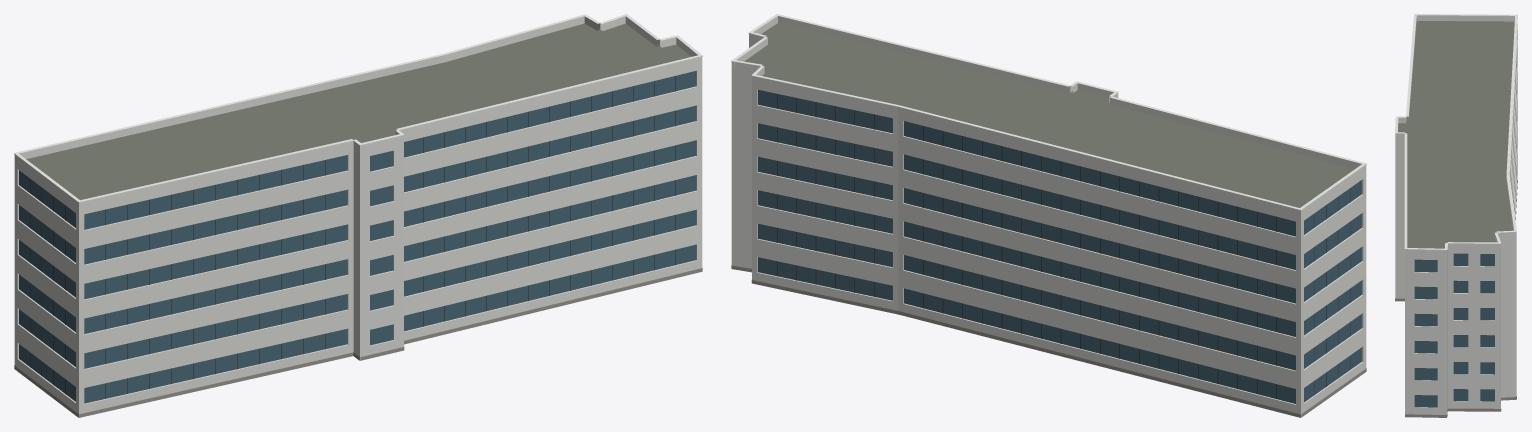
3 views of the same model, side by side, from view 1: azimuth 30°, elevation 25°; view 2: azimuth 150°, elevation 25°; view 3: azimuth 270°, elevation 25° (orthographic). The views are drawn at different scales.
Visible parts, largest first — view 1: hospitalEastA__wall, hospitalEastA__glass, hospitalEastA__roof, hospitalEastA__parapet, hospitalEastA__trim, hospitalEastA__base, hospitalEastA__frame; view 2: hospitalEastA__wall, hospitalEastA__glass, hospitalEastA__roof, hospitalEastA__parapet, hospitalEastA__trim, hospitalEastA__frame, hospitalEastA__base; view 3: hospitalEastA__roof, hospitalEastA__wall, hospitalEastA__glass, hospitalEastA__trim, hospitalEastA__parapet, hospitalEastA__base.
Boxes of the visible parts, x1=… form: hospitalEastA__wall: x1=14, y1=63, x2=702, y2=417; hospitalEastA__glass: x1=19, y1=71, x2=696, y2=403; hospitalEastA__roof: x1=26, y1=23, x2=690, y2=200; hospitalEastA__parapet: x1=14, y1=16, x2=702, y2=209; hospitalEastA__trim: x1=14, y1=14, x2=702, y2=202; hospitalEastA__base: x1=14, y1=268, x2=702, y2=417; hospitalEastA__frame: x1=30, y1=76, x2=675, y2=398; hospitalEastA__wall: x1=731, y1=40, x2=1366, y2=417; hospitalEastA__glass: x1=758, y1=90, x2=1361, y2=403; hospitalEastA__roof: x1=744, y1=23, x2=1354, y2=207; hospitalEastA__parapet: x1=731, y1=16, x2=1366, y2=216; hospitalEastA__trim: x1=731, y1=14, x2=1366, y2=210; hospitalEastA__frame: x1=777, y1=94, x2=1350, y2=399; hospitalEastA__base: x1=731, y1=265, x2=1366, y2=417; hospitalEastA__roof: x1=1398, y1=21, x2=1514, y2=417; hospitalEastA__wall: x1=1395, y1=25, x2=1517, y2=416; hospitalEastA__glass: x1=1414, y1=253, x2=1494, y2=407; hospitalEastA__trim: x1=1395, y1=14, x2=1517, y2=250; hospitalEastA__parapet: x1=1395, y1=15, x2=1516, y2=255; hospitalEastA__base: x1=1395, y1=180, x2=1517, y2=417.
Size of the model in its own units: 71.03 by 23.62 by 15.65.
